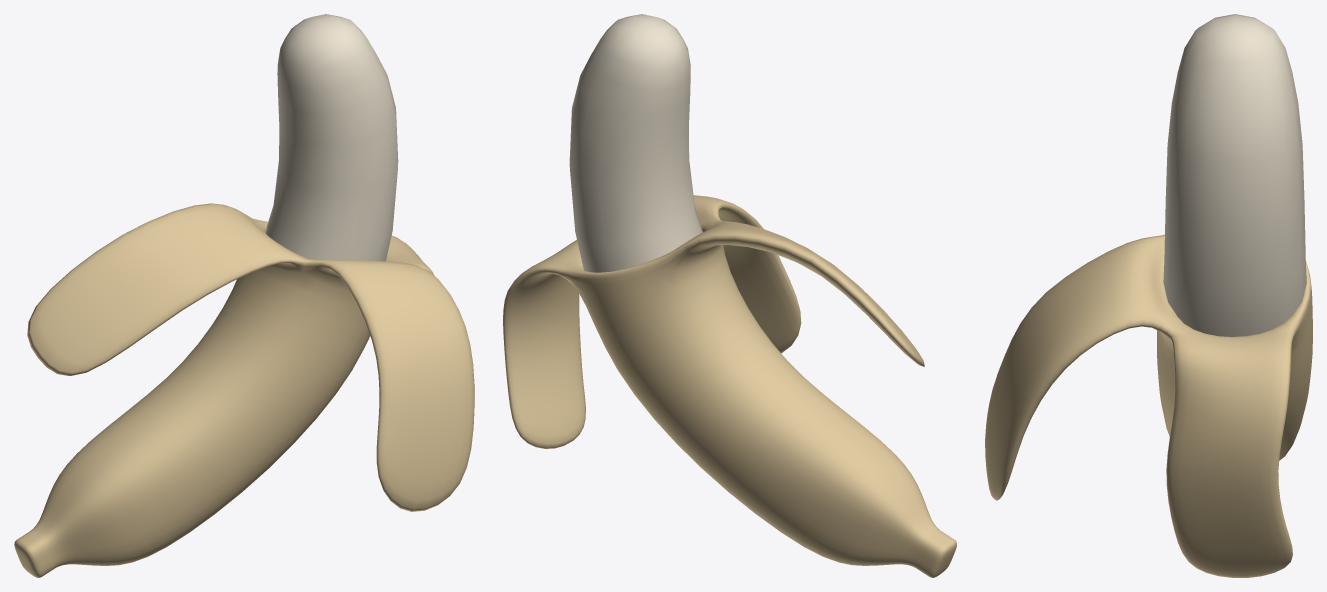
Rendered from banana.glb.
3 renders of one model, left to right at view 1: azimuth 30°, elevation 25°; view 2: azimuth 150°, elevation 25°; view 3: azimuth 270°, elevation 25°, orthographic. The views are drawn at different scales.
Visible parts, largest first — view 1: banana skin, interior banana; view 2: banana skin, interior banana; view 3: banana skin, interior banana.
Boxes of the visible parts, x1,y1,x2,y2 form: banana skin: [14, 203, 474, 577]; interior banana: [266, 14, 398, 261]; banana skin: [503, 195, 956, 577]; interior banana: [569, 14, 702, 272]; banana skin: [985, 234, 1312, 577]; interior banana: [1163, 14, 1306, 336].
Bounding box in the file's own units: 1.8 × 1.94 × 1.04.
